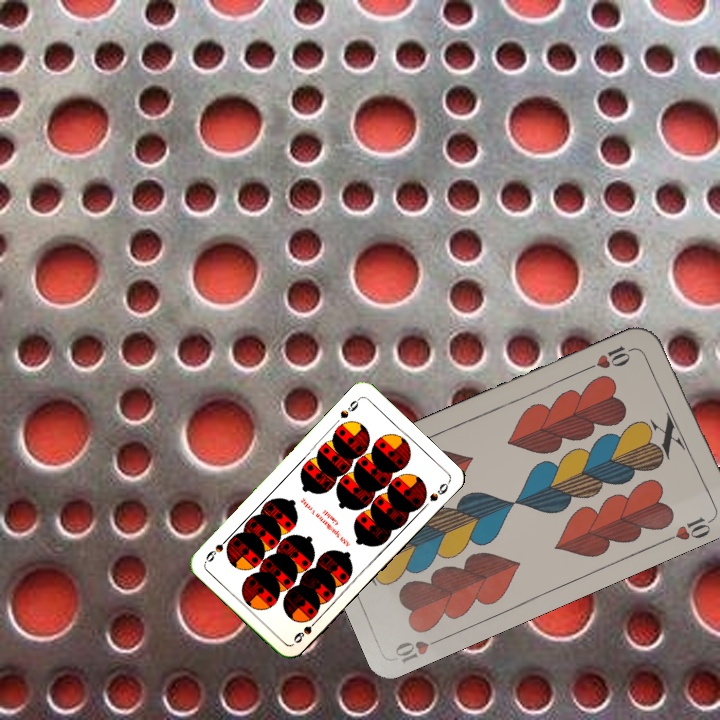H10: (390, 632, 449, 666), (583, 341, 639, 373)
S9: (289, 612, 321, 646), (336, 393, 363, 421)
